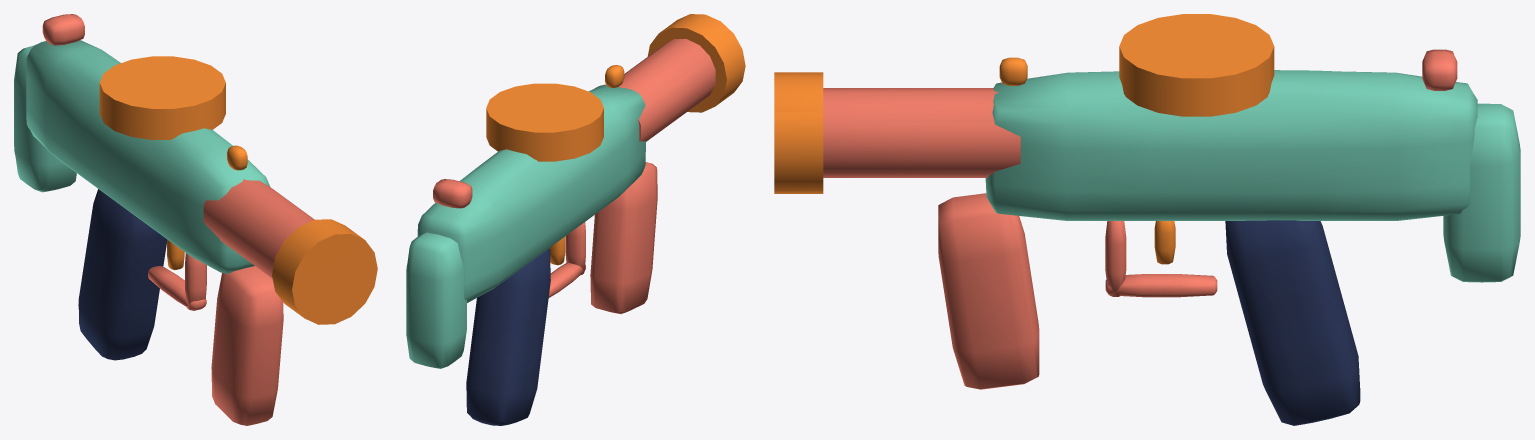
File: smg.glb
3 views of the same model, side by side, from view 1: azimuth 30°, elevation 25°; view 2: azimuth 150°, elevation 25°; view 3: azimuth 270°, elevation 25° (orthographic). The views are drawn at different scales.
Visible parts, largest first — view 1: Gun_smg; view 2: Gun_smg; view 3: Gun_smg.
Part boxes in pixels (x1,y1,x2,y2): Gun_smg: [14, 14, 377, 425]; Gun_smg: [406, 14, 745, 425]; Gun_smg: [774, 14, 1520, 425].
Size of what is drawn, in the model's own units: 0.0433 by 0.1167 by 0.212.
Materials: 4 (4 with a texture image).
